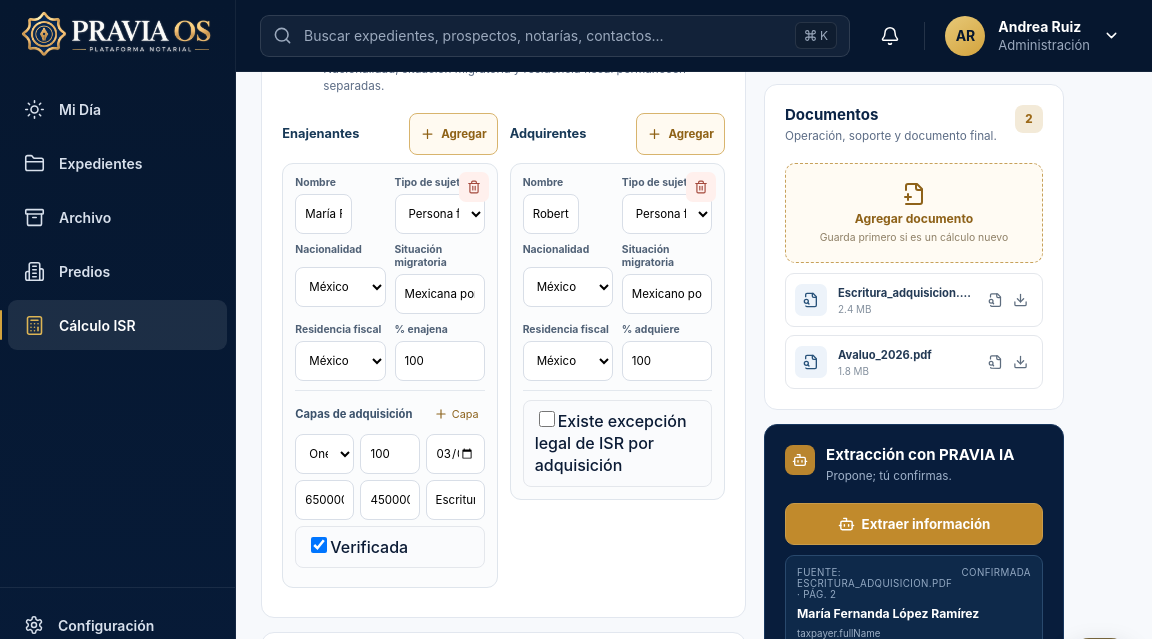
Test: Cálculo ISR v3 › muestra opciones fiscales sólo cuando la ruta correspondiente se activa
The width and height of the screenshot is (1152, 639).
(page scrolled)
Select "Extranjero" in the dropdown labelled "Residencia fiscal" below "% enajena": (340, 361) [295,341,386,381]
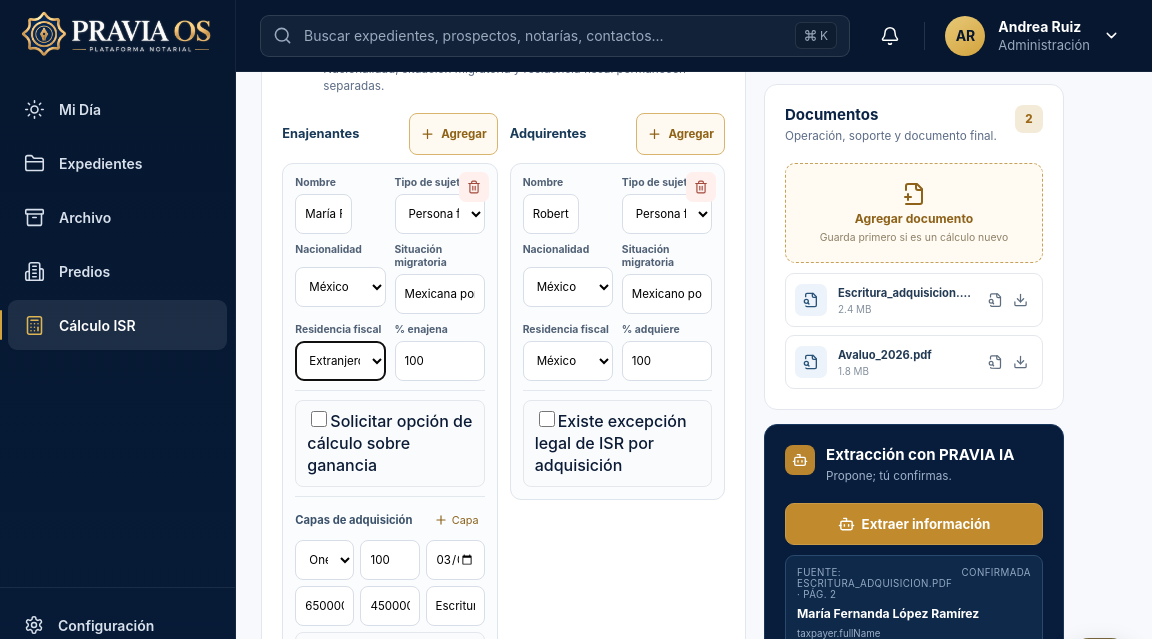
Click the checkbox labelled "Solicitar opción de cálculo sobre ganancia": (319, 419) [311,411,327,427]
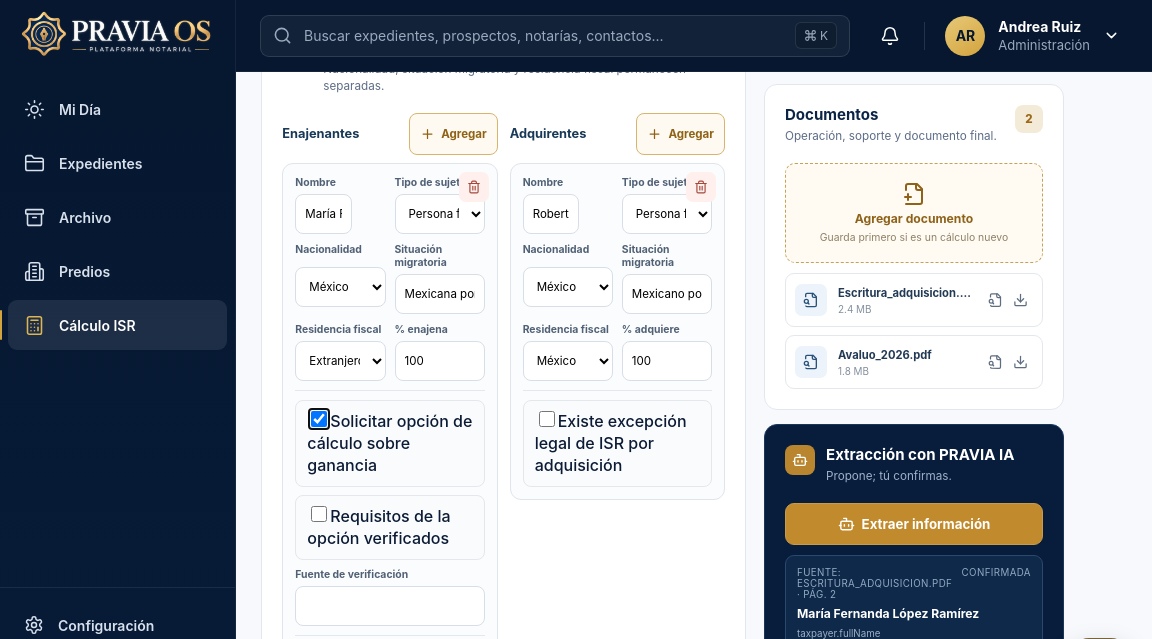
expect the checkbox labelled "Requisitos de la opción verificados" is shown: met, box [311,506,327,522]
Click the checkbox labelled "Existe excepción legal de ISR por adquisición": (547, 419) [539,411,555,427]
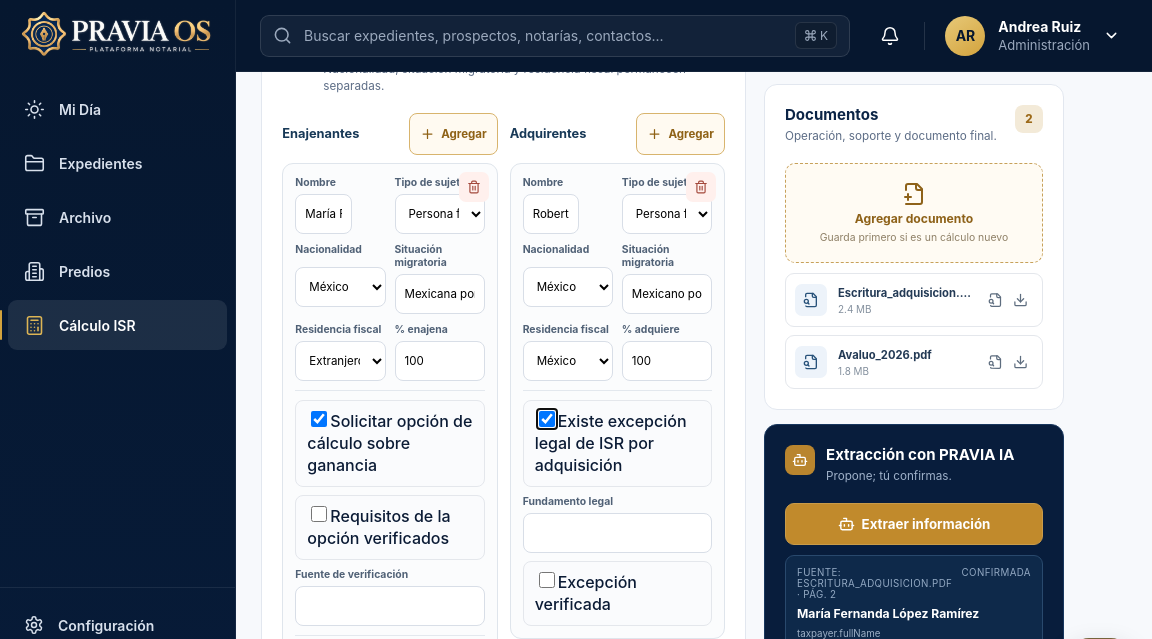
expect the field labelled "Fundamento legal" is shown: met, box [523,513,712,553]
expect the checkbox labelled "Excepción verificada" is shown: met, box [539,572,555,588]
